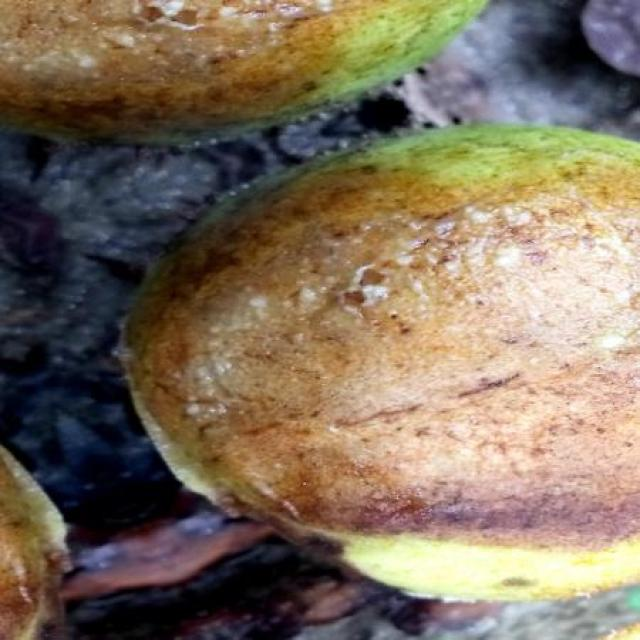Styler and Root: (128, 149, 640, 542), (0, 1, 414, 138), (0, 445, 69, 639)
